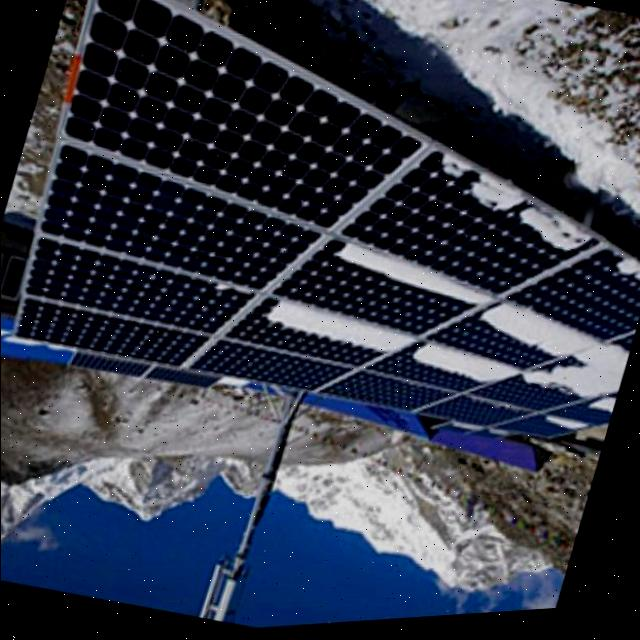Anomaly Solar Panel: (340, 136, 619, 327), (274, 232, 506, 359), (476, 340, 638, 453), (433, 293, 605, 398), (230, 295, 431, 384), (514, 233, 640, 362), (373, 337, 525, 413), (501, 415, 598, 454), (548, 405, 620, 449)
Normal Solar Panel: (34, 0, 452, 255), (31, 146, 330, 308), (24, 239, 259, 345), (18, 297, 215, 374), (192, 336, 363, 406), (324, 367, 467, 427)
Snow: (331, 244, 510, 320), (478, 296, 610, 383), (517, 345, 637, 432), (269, 302, 423, 366), (507, 201, 599, 277), (412, 343, 526, 404), (463, 174, 532, 228), (613, 258, 640, 295), (548, 424, 599, 441), (437, 165, 472, 186), (591, 401, 620, 426)
